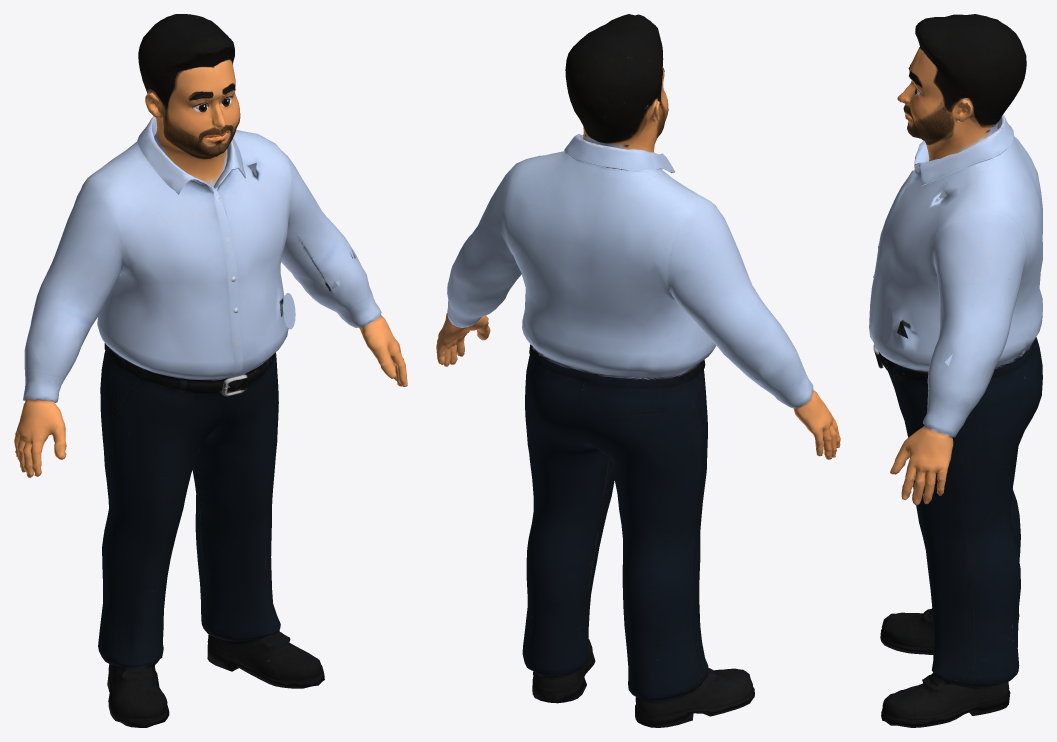
File: AbdullahEkinci_MeshyPro.obj
3 renders of one model, left to right at view 1: azimuth 30°, elevation 25°; view 2: azimuth 150°, elevation 25°; view 3: azimuth 270°, elevation 25°, orthographic. The views are drawn at different scales.
Visible parts, largest first — view 1: AbdullahEkinci; view 2: AbdullahEkinci; view 3: AbdullahEkinci.
Boxes of the visible parts, x1=… form: AbdullahEkinci: x1=14, y1=14, x2=407, y2=727; AbdullahEkinci: x1=436, y1=14, x2=840, y2=727; AbdullahEkinci: x1=869, y1=14, x2=1042, y2=727.
Bounding box in the file's own units: 1.1 × 1.8 × 0.4316.
